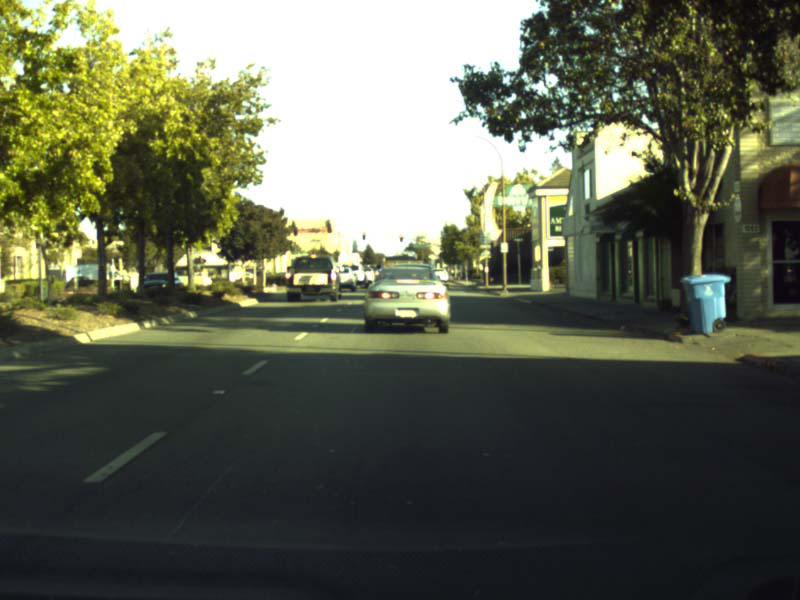Red: (399, 233, 403, 242), (362, 231, 365, 240)
